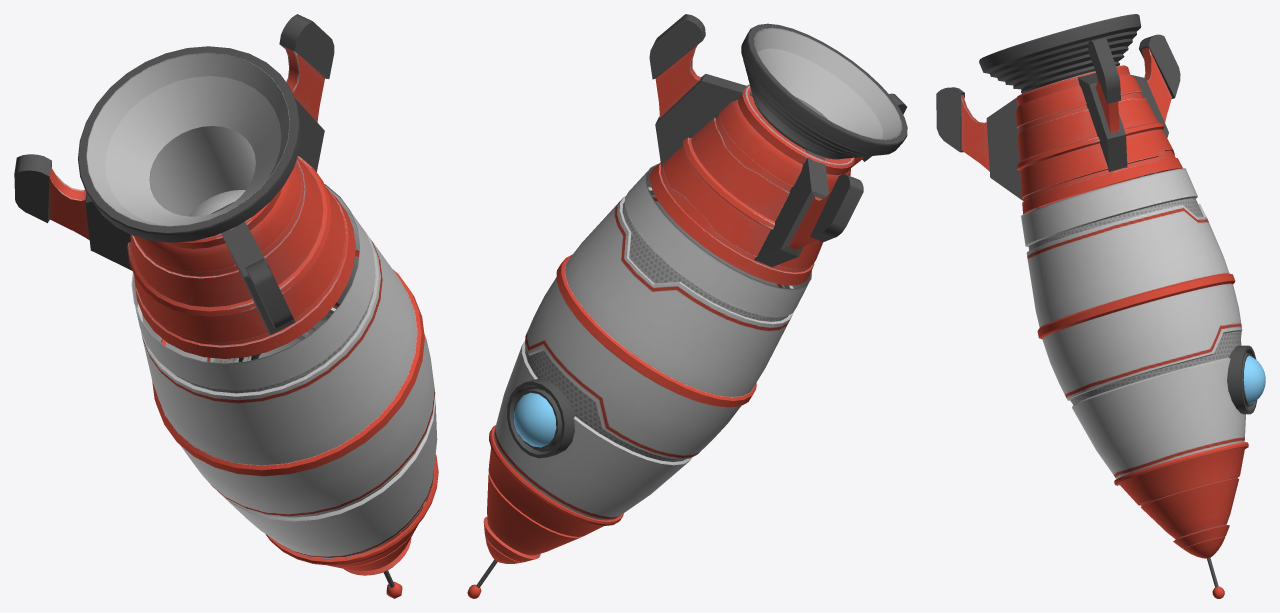
Rendered from RocketB2.fbx.
3 views of the same model, side by side, from view 1: azimuth 30°, elevation 25°; view 2: azimuth 150°, elevation 25°; view 3: azimuth 270°, elevation 25° (orthographic). The views are drawn at different scales.
Visible parts, largest first — view 1: RocketB2; view 2: RocketB2; view 3: RocketB2.
Boxes of the visible parts, x1,y1,x2,y2 form: RocketB2: [14, 14, 438, 598]; RocketB2: [467, 14, 907, 598]; RocketB2: [936, 14, 1265, 598].
Size of the model in its own units: 1.95 by 2.94 by 1.77.
